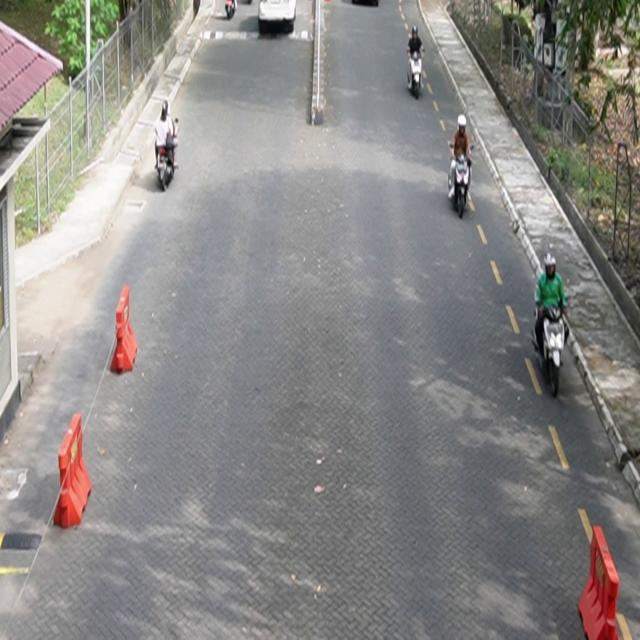car: (259, 1, 297, 35)
